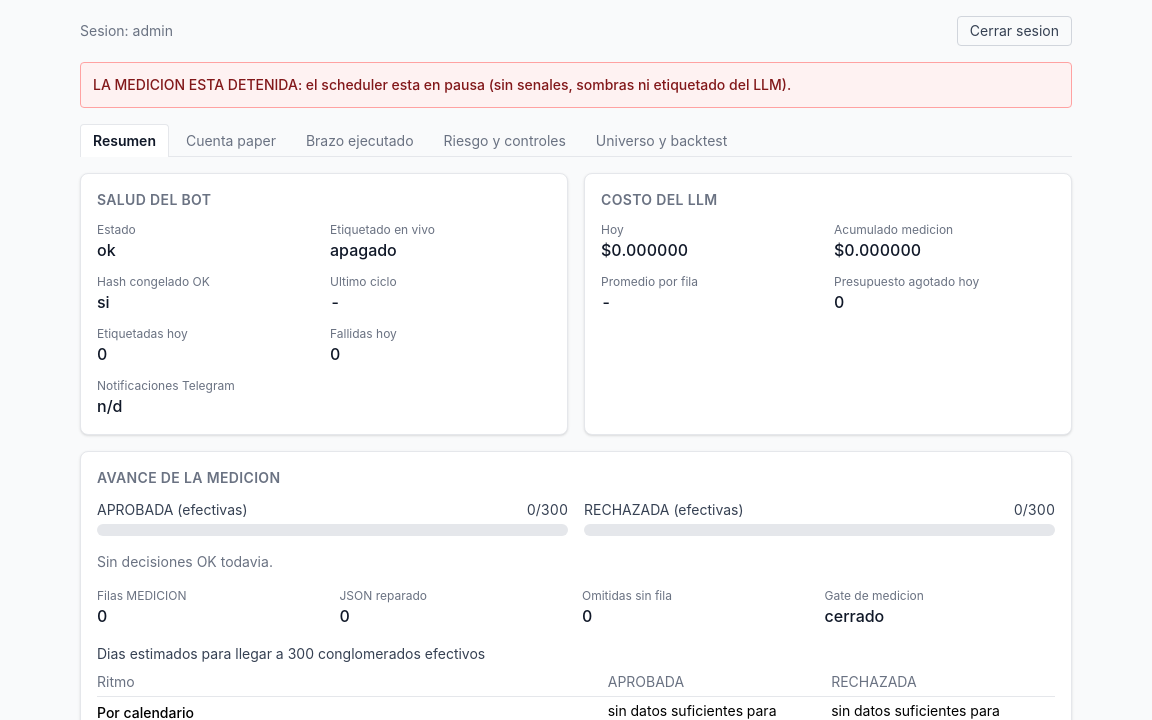
Test: DashboardView: pestanas (Fase 5) › en pausa avisa que la medicion esta detenida, en todas las pestanas
The width and height of the screenshot is (1152, 720).
Check: the message shows "LA MEDICION ESTA DETENIDA", box [93, 76, 791, 93]
Check: the message shows "sin senales, sombras ni etiquetado", box [93, 76, 791, 93]
Click the tab "Cuenta paper": click(231, 140) [173, 124, 289, 157]
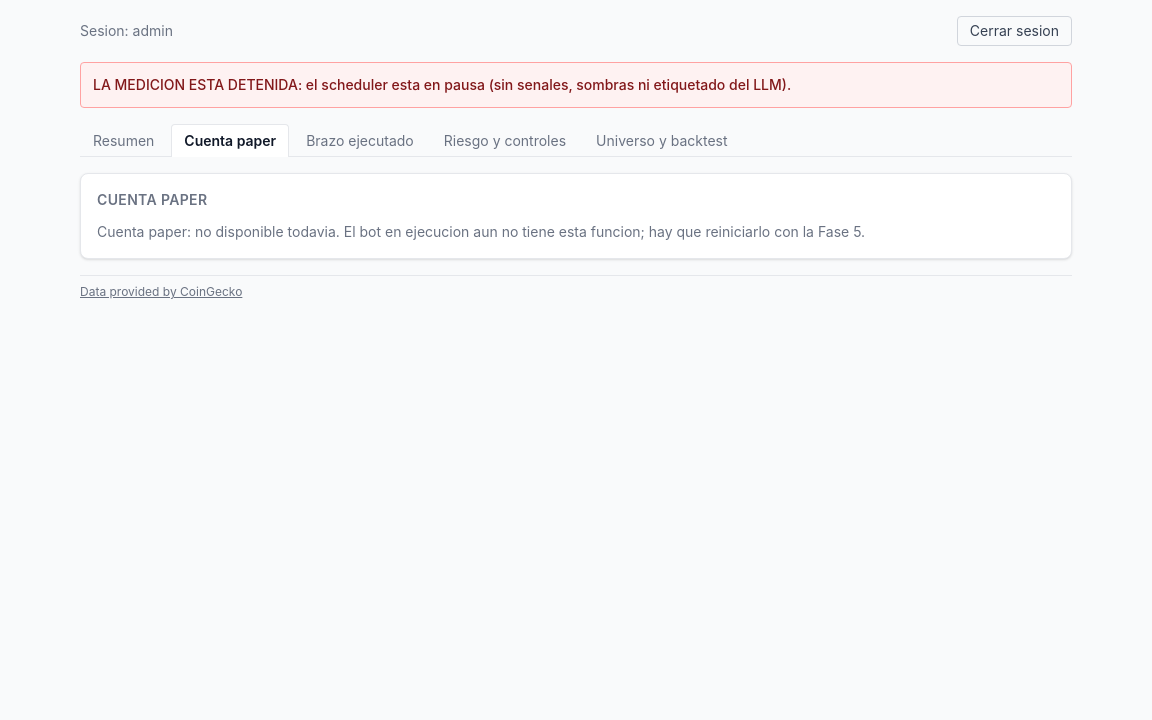
Check: the 1st message shows "LA MEDICION ESTA DETENIDA", box [93, 76, 791, 93]
Check: the text "Cuenta paper: no disponible todavia" is shown, box [97, 223, 865, 240]
